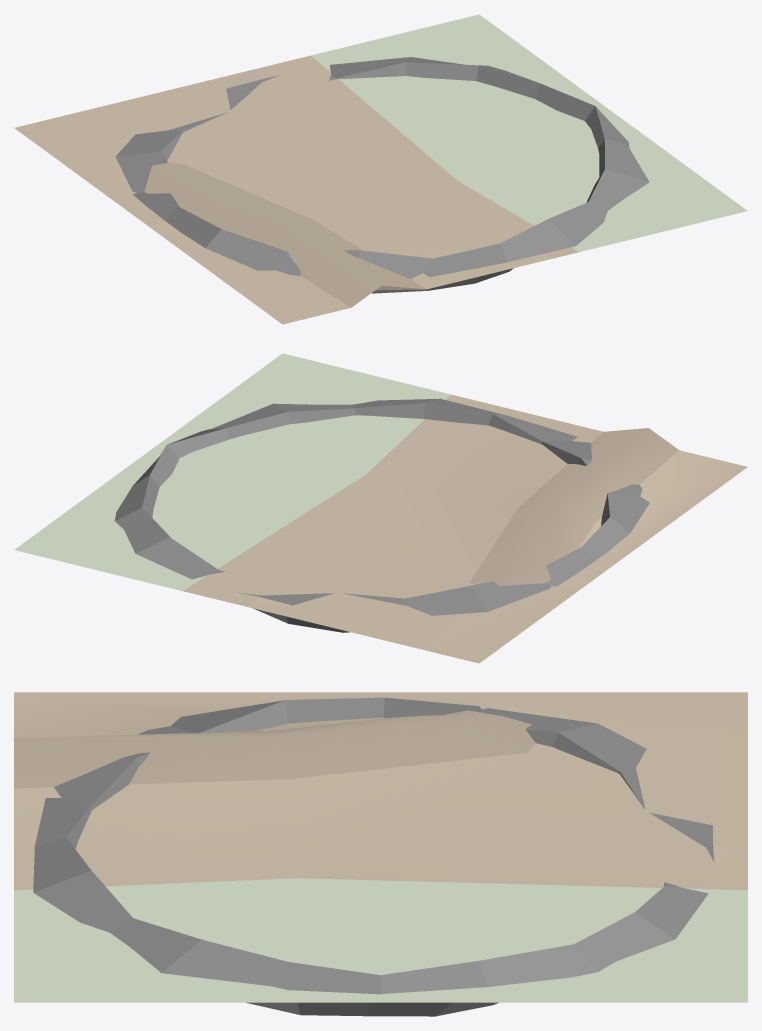
The model's file is crator.fbx.
3 views of the same model, one above another, from view 1: azimuth 30°, elevation 25°; view 2: azimuth 150°, elevation 25°; view 3: azimuth 270°, elevation 25° (orthographic). The views are drawn at different scales.
Parts seen in each view (by area): view 1: crater0, crater1; view 2: crater0, crater1; view 3: crater0, crater1.
Boxes of the visible parts, <box> form: crater0: <box>14,14,747,324</box>; crater1: <box>115,57,649,293</box>; crater0: <box>14,353,747,663</box>; crater1: <box>114,398,649,632</box>; crater0: <box>14,692,747,1002</box>; crater1: <box>33,692,747,1016</box>.
Size of the model in its own units: 40 by 7.48 by 40.
